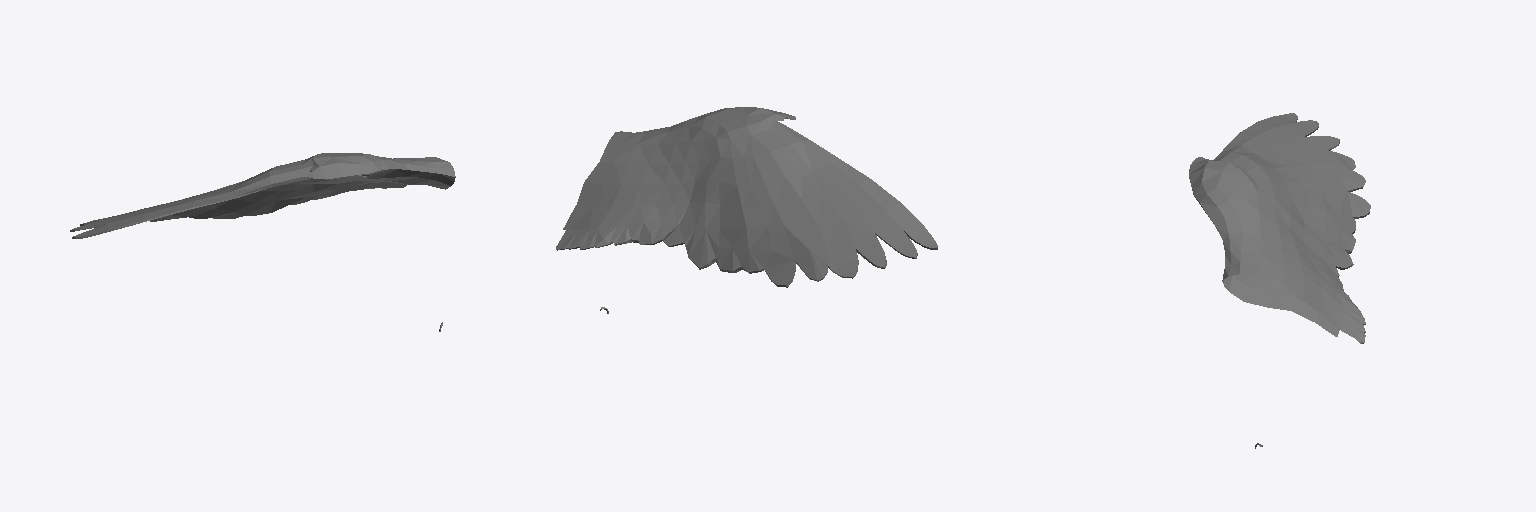
File: AlaDer.obj
3 views of the same model, side by side, from view 1: azimuth 30°, elevation 25°; view 2: azimuth 150°, elevation 25°; view 3: azimuth 270°, elevation 25° (orthographic).
Parts seen in each view (by area): view 1: Falcon; view 2: Falcon; view 3: Falcon.
Boxes of the visible parts, x1,y1,x2,y2 form: Falcon: [70, 153, 455, 331]; Falcon: [556, 107, 937, 313]; Falcon: [1189, 113, 1370, 448].
Bounding box in the file's own units: 1.68 × 0.9982 × 0.7513.